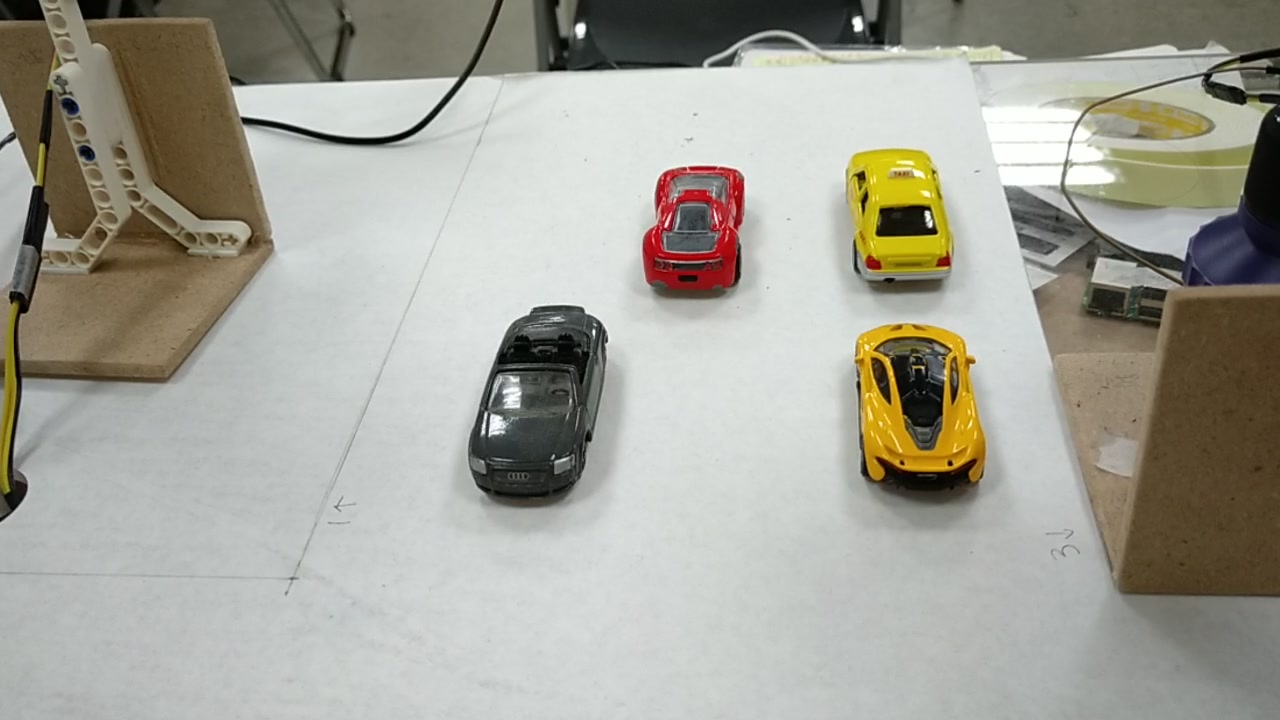car: (469, 303, 615, 494), (861, 333, 980, 497), (644, 163, 755, 291), (854, 144, 944, 286)
